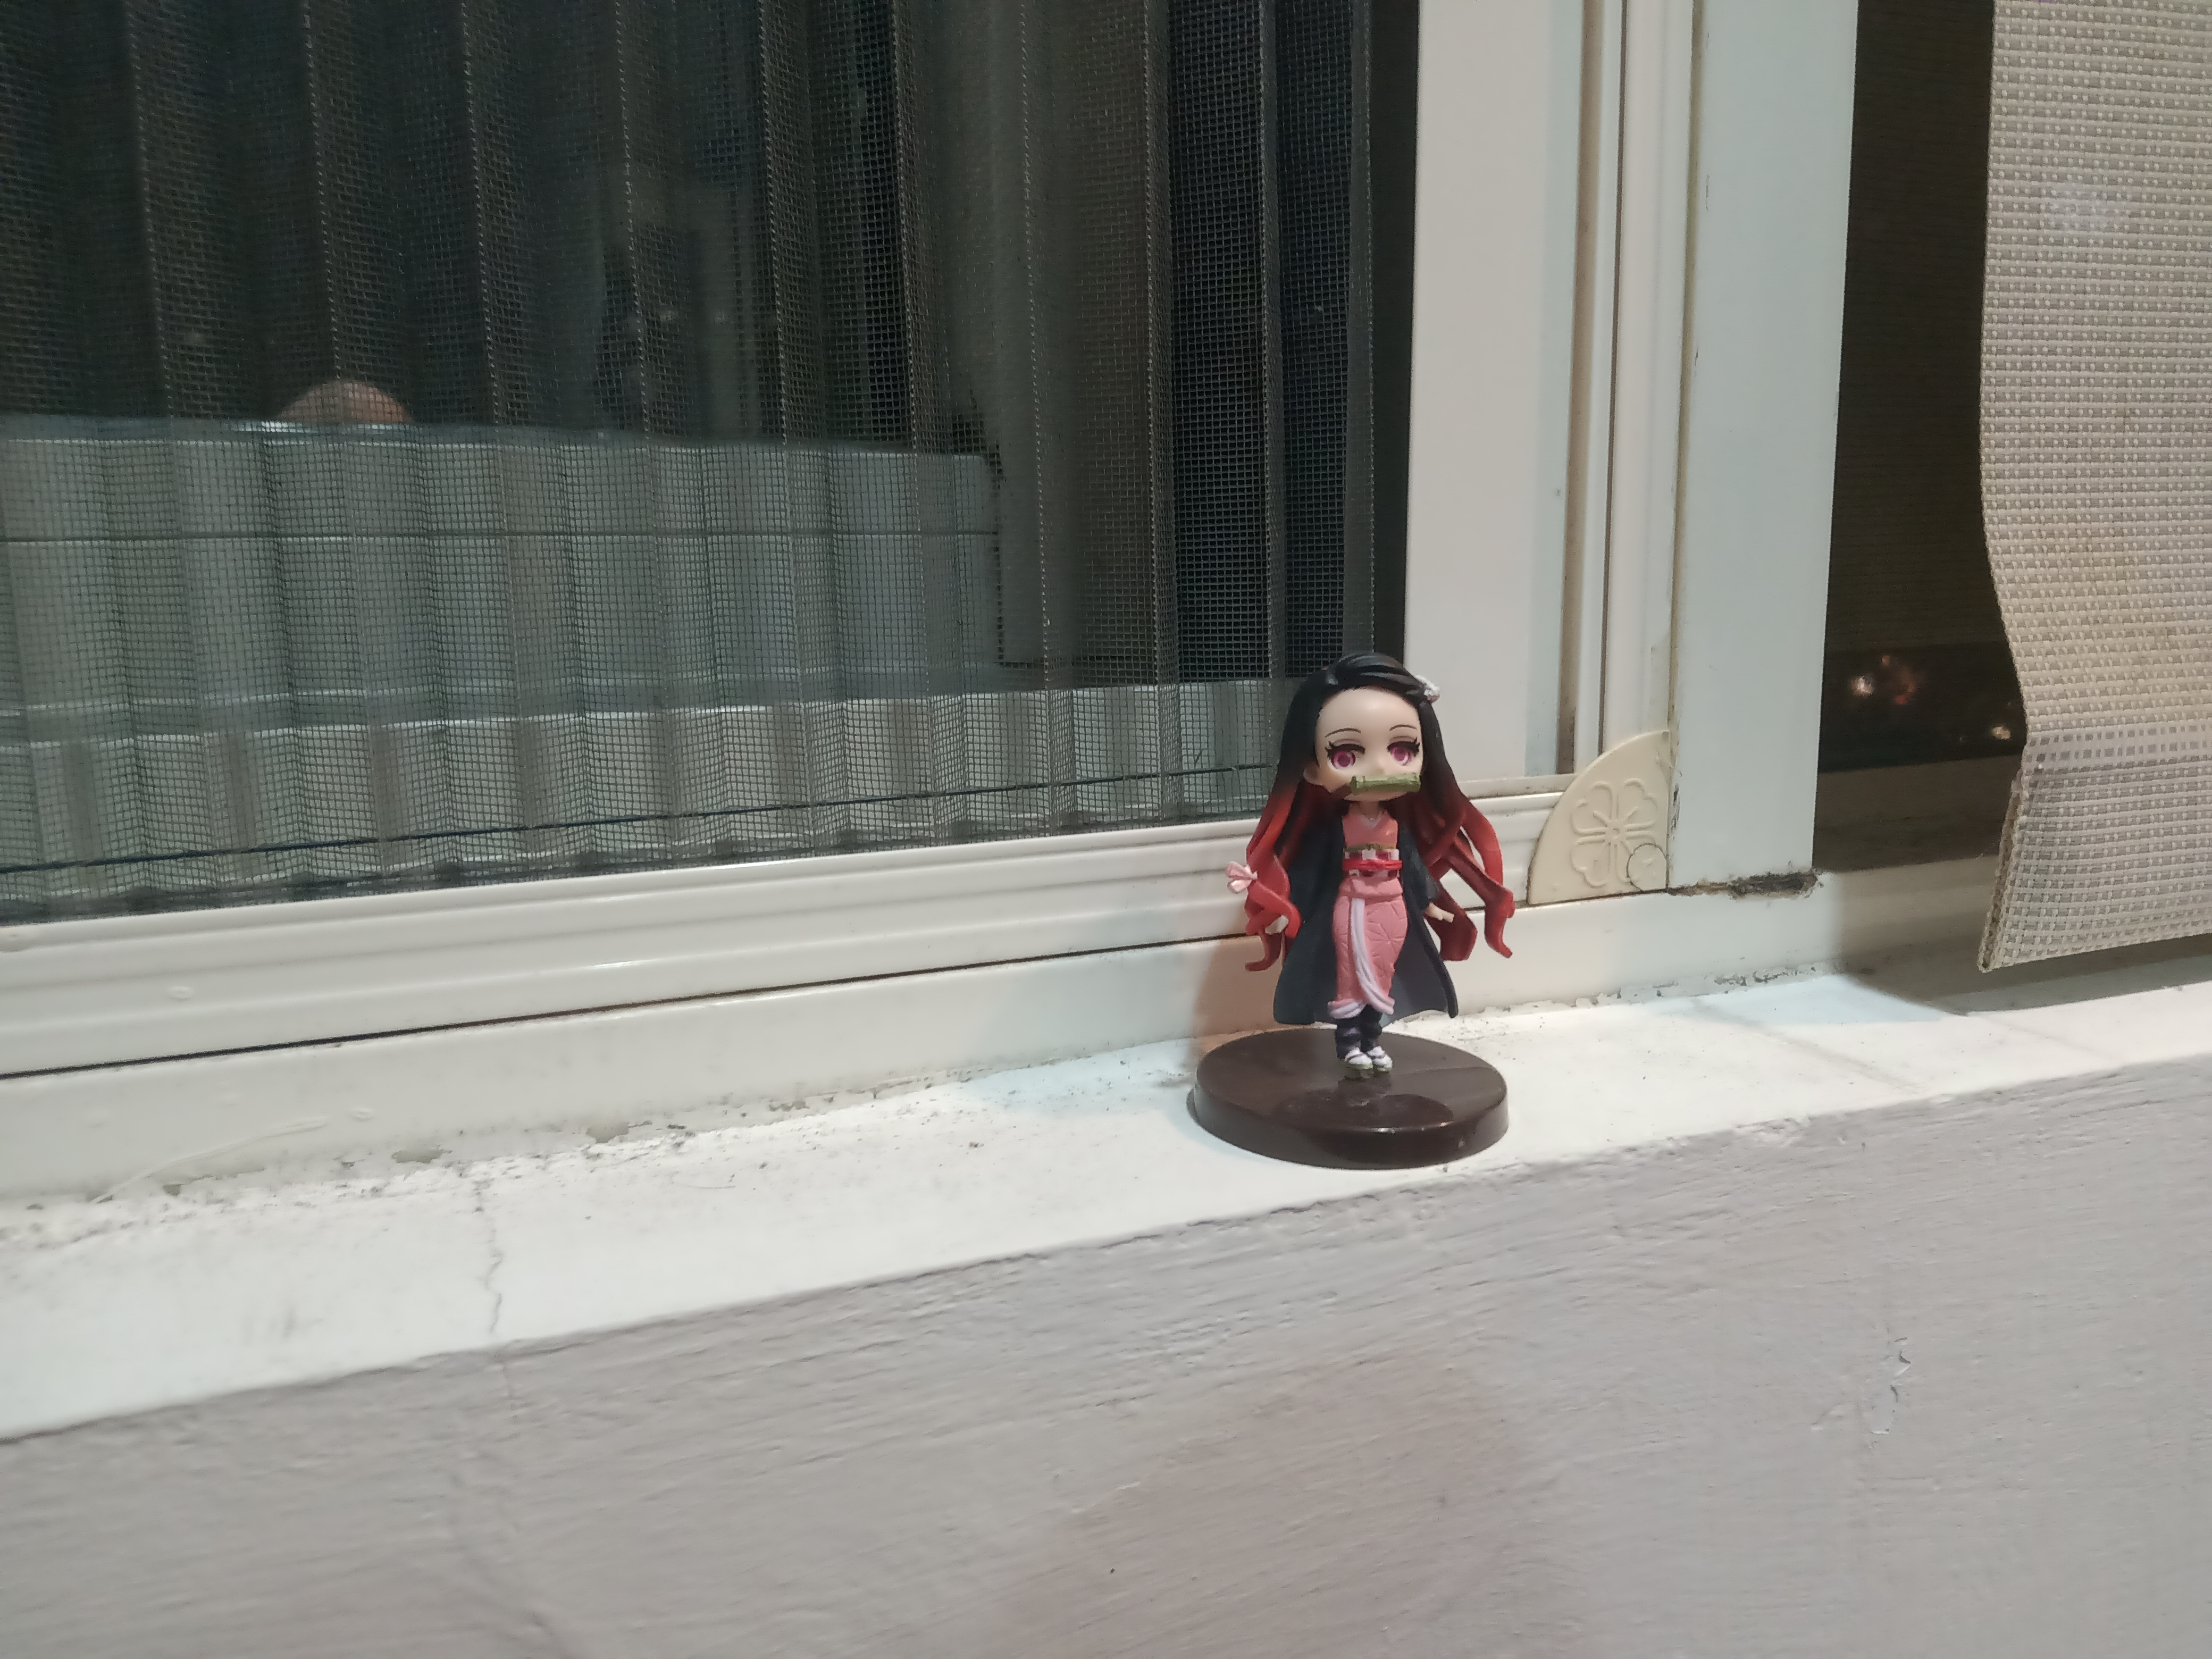Nezuko: (1172, 645, 1536, 1175)
